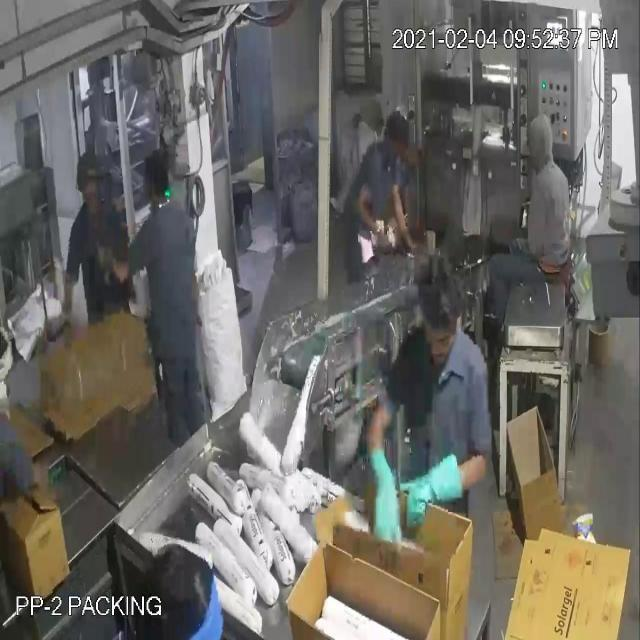No_Gloves: (25, 61, 435, 492)
